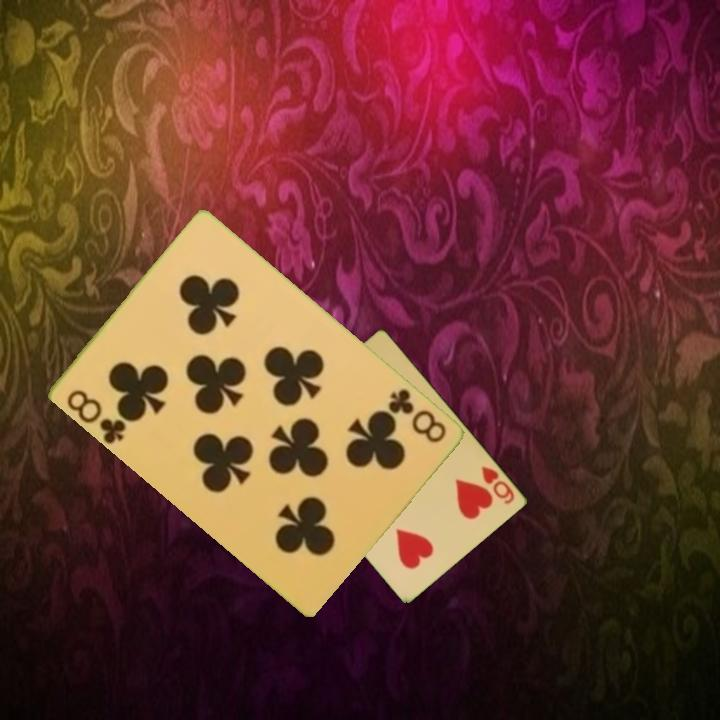6h: (478, 462, 518, 507)
8c: (62, 386, 133, 447), (383, 385, 449, 446)
